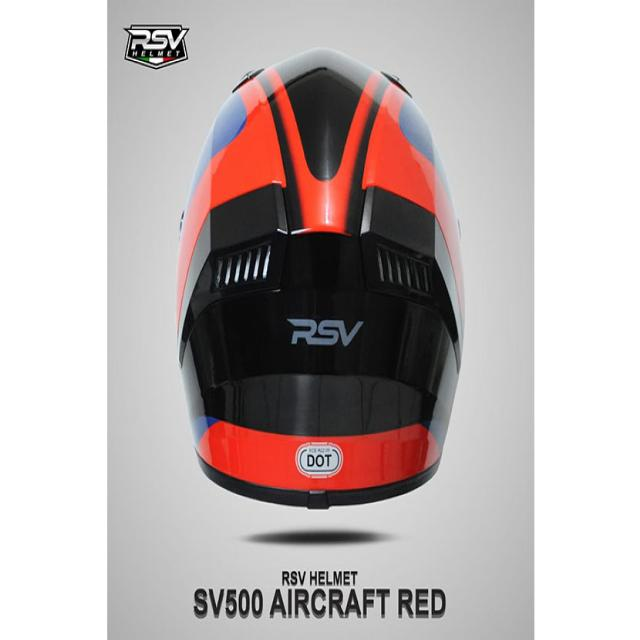Helm: (170, 42, 462, 512)
